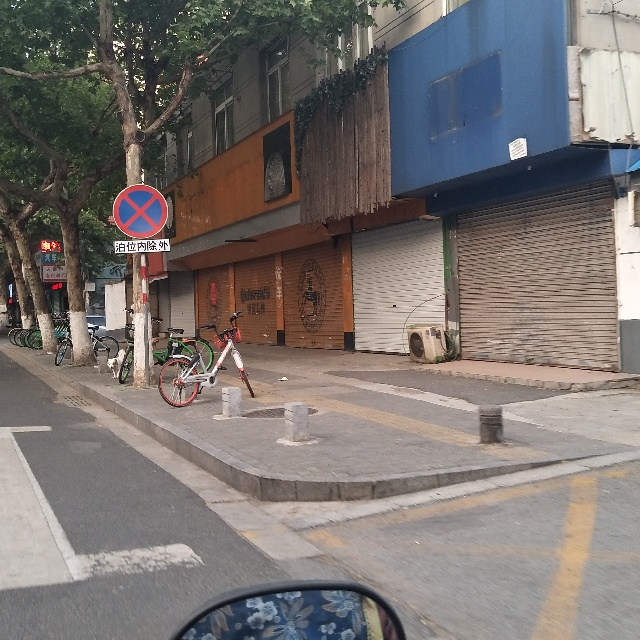stop: (113, 182, 169, 240)
